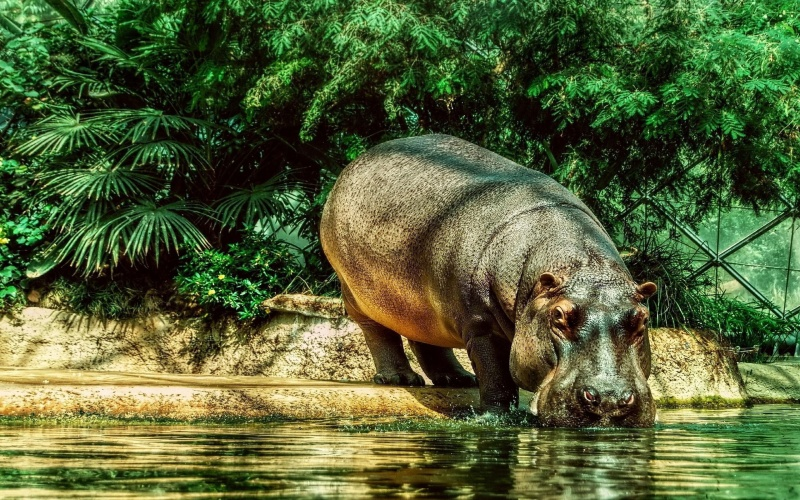hipopotamo: (312, 127, 672, 434)
